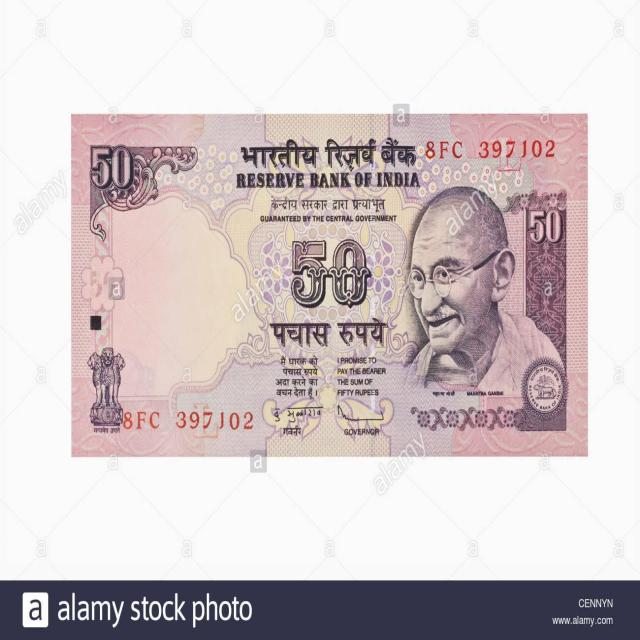50IndianRupees: (71, 118, 584, 454)
